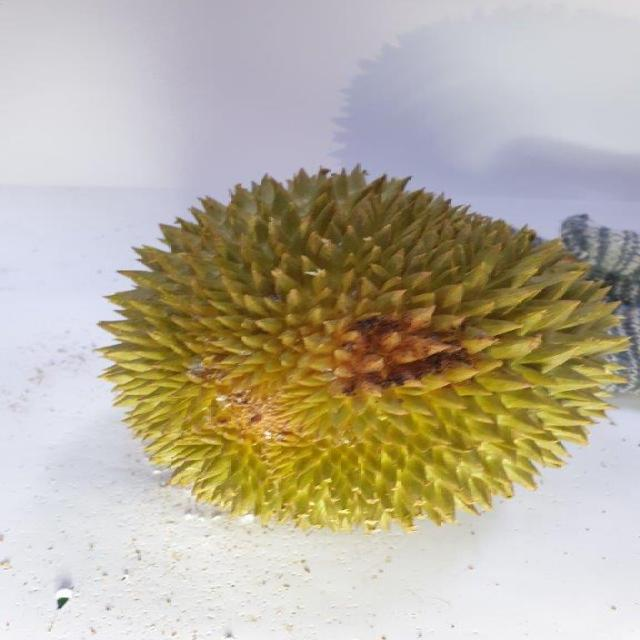defective: (92, 162, 628, 534)
